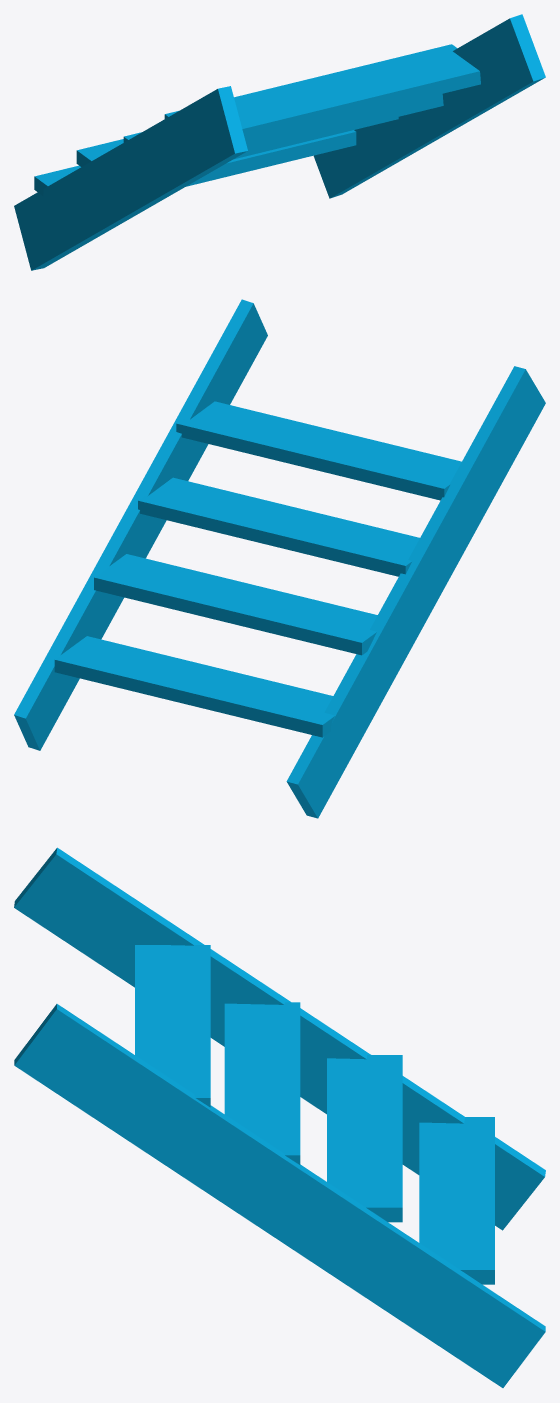
File: House_Base_01_Stairs_Lod0.fbx
3 views of the same model, one above another, from view 1: azimuth 30°, elevation 25°; view 2: azimuth 150°, elevation 25°; view 3: azimuth 270°, elevation 25° (orthographic). The views are drawn at different scales.
Visible parts, largest first — view 1: House_Base_01_Stairs_Lod0; view 2: House_Base_01_Stairs_Lod0; view 3: House_Base_01_Stairs_Lod0.
Part boxes in pixels (<box>): House_Base_01_Stairs_Lod0: <box>14,14,545,270</box>; House_Base_01_Stairs_Lod0: <box>14,299,545,818</box>; House_Base_01_Stairs_Lod0: <box>14,847,545,1387</box>.
Bounding box in the file's own units: 141 × 138 × 180.
